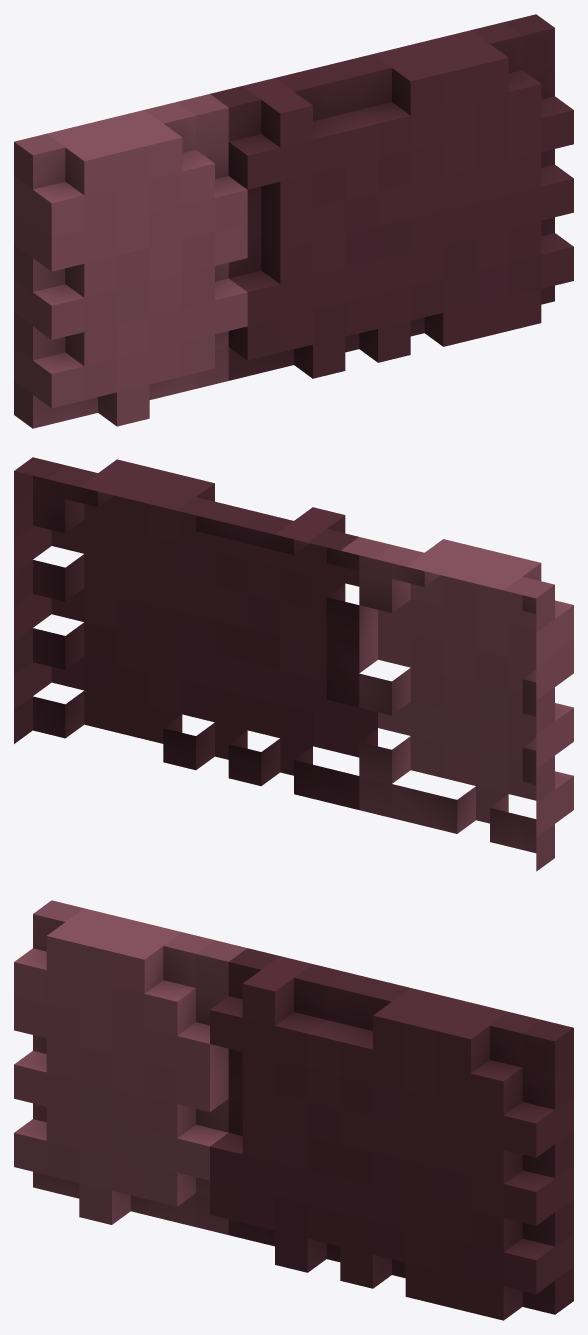
Rendered from ashlar_plain_3.glb.
3 views of the same model, one above another, from view 1: azimuth 30°, elevation 25°; view 2: azimuth 150°, elevation 25°; view 3: azimuth 330°, elevation 25° (orthographic).
Parts seen in each view (by area): view 1: ashlar_plain_3; view 2: ashlar_plain_3; view 3: ashlar_plain_3.
Part boxes in pixels (left/top/right/bottom): ashlar_plain_3: left=14, top=14, right=573, bottom=428; ashlar_plain_3: left=14, top=457, right=573, bottom=871; ashlar_plain_3: left=14, top=900, right=573, bottom=1320.
Bounding box in the file's own units: 1 × 0.5 × 0.125.
